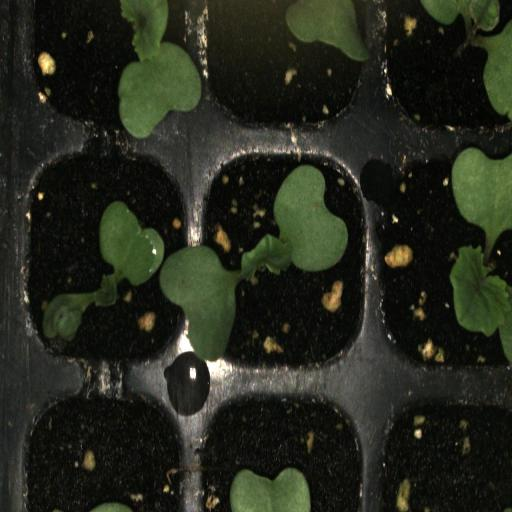seedling: (200, 149, 374, 383), (371, 150, 512, 399), (16, 0, 201, 150), (375, 0, 512, 147)
weak: (15, 153, 200, 370)
